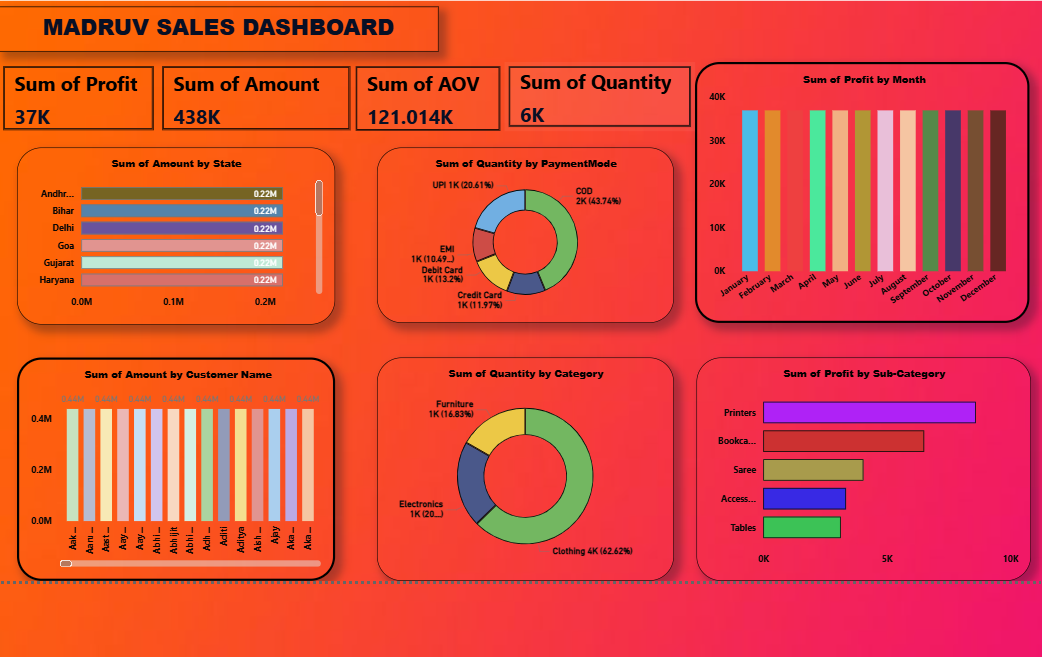

Layout of this report page (visuals, bound fields, positions):
{"tool":"powerbi","page":{"name":"Page 1","canvas":[1280,720],"ordinal":0},"visuals":[{"type":"textbox","box":[0,16.5,537.8,55.1],"z":0},{"type":"clusteredColumnChart","fields":{"Category":["Orders.Date.Variation.Date Hierarchy.Month"],"Y":["Sum(Details.Profit)"]},"box":[851.7,84.4,409.3,319.4],"z":1000},{"type":"barChart","fields":{"Category":["Details.Sub-Category"],"Y":["Sum(Details.Profit)"]},"box":[853.5,446,409.3,273.5],"z":2000},{"type":"donutChart","fields":{"Category":["Details.Category"],"Y":["Sum(Details.Quantity)"]},"box":[462.6,446,363.4,273.5],"z":3000},{"type":"donutChart","fields":{"Y":["Sum(Details.Quantity)"],"Series":["Details.PaymentMode"]},"box":[462.6,189.1,363.4,214.8],"z":4000},{"type":"cardVisual","fields":{"Data":["Sum(Details.Profit)"]},"box":[0,84.4,194.6,88.1],"z":5000},{"type":"cardVisual","fields":{"Data":["Sum(Details.AOV)"]},"box":[431.4,84.4,187.2,89.9],"z":6000},{"type":"cardVisual","fields":{"Data":["Sum(Details.Amount)"]},"box":[194.6,84.4,240.5,88.1],"z":7000},{"type":"cardVisual","fields":{"Data":["Sum(Details.Quantity)"]},"box":[618.6,84.4,233.1,84.4],"z":8000},{"type":"barChart","fields":{"Category":["Orders.State"],"Y":["Sum(Details.Amount)"]},"box":[22,189.1,389.1,216.6],"z":9000},{"type":"clusteredColumnChart","fields":{"Category":["Orders.Customer Name"],"Y":["Sum(Details.Amount)"]},"box":[22,446,389.1,273.5],"z":10000}]}

Visuals, with their boxes in screenshot pixels (x1, y1, x2, y2):
textbox: 8:11:440:55
clusteredColumnChart - Orders.Date.Variation.Date Hierarchy.Month x Sum(Details.Profit): 692:65:1020:321
barChart - Details.Sub-Category x Sum(Details.Profit): 693:355:1022:575
donutChart - Details.Category x Sum(Details.Quantity): 380:355:671:575
donutChart - Sum(Details.Quantity) x Details.PaymentMode: 380:149:671:322
cardVisual - Sum(Details.Profit): 8:65:164:136
cardVisual - Sum(Details.AOV): 354:65:505:137
cardVisual - Sum(Details.Amount): 164:65:357:136
cardVisual - Sum(Details.Quantity): 505:65:692:133
barChart - Orders.State x Sum(Details.Amount): 26:149:338:323
clusteredColumnChart - Orders.Customer Name x Sum(Details.Amount): 26:355:338:575
